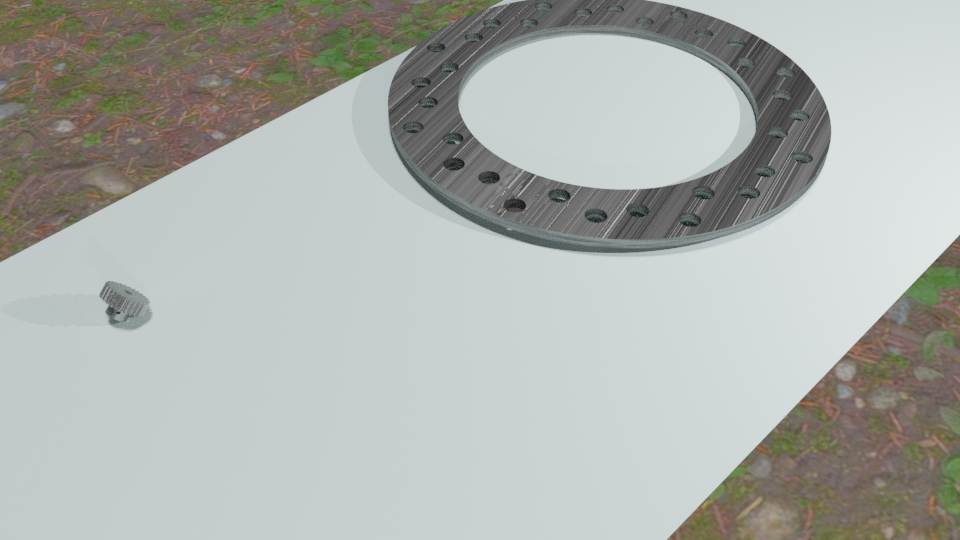yamaha_letters: (442, 157, 526, 213)
